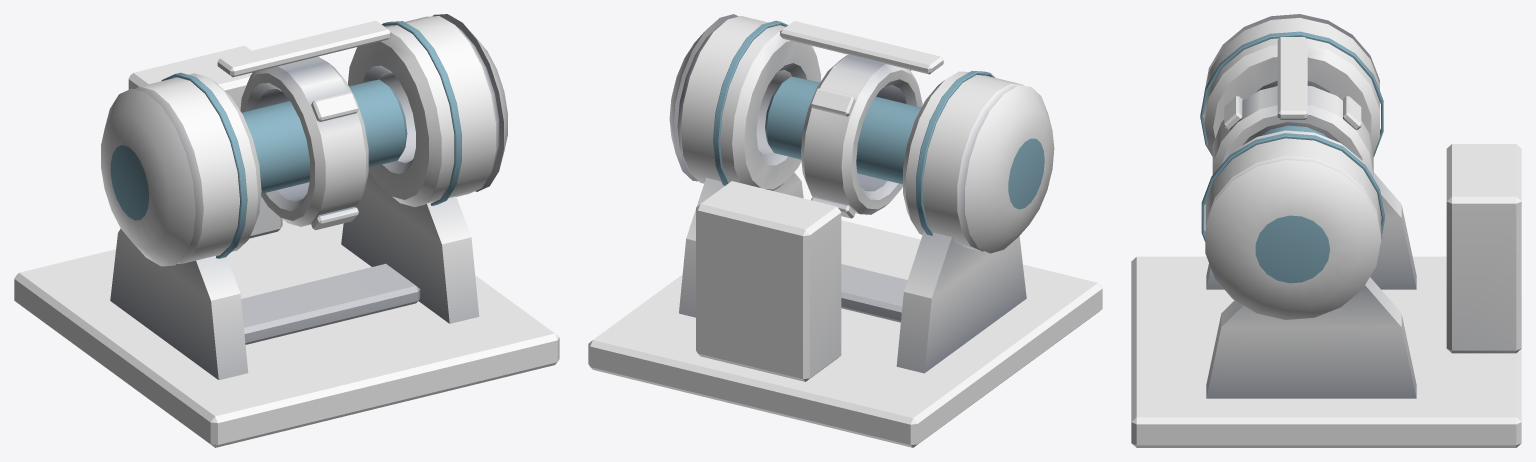
File: R4X_Battery_LOD1.fbx
3 renders of one model, left to right at view 1: azimuth 30°, elevation 25°; view 2: azimuth 150°, elevation 25°; view 3: azimuth 270°, elevation 25°, orthographic. The views are drawn at different scales.
Parts seen in each view (by area): view 1: R4X_Battery_LOD1; view 2: R4X_Battery_LOD1; view 3: R4X_Battery_LOD1.
Boxes of the visible parts, <box> form: R4X_Battery_LOD1: <box>14,14,559,447</box>; R4X_Battery_LOD1: <box>588,14,1102,447</box>; R4X_Battery_LOD1: <box>1131,14,1521,447</box>.
Bounding box in the file's own units: 0.52 × 0.432 × 0.52.
